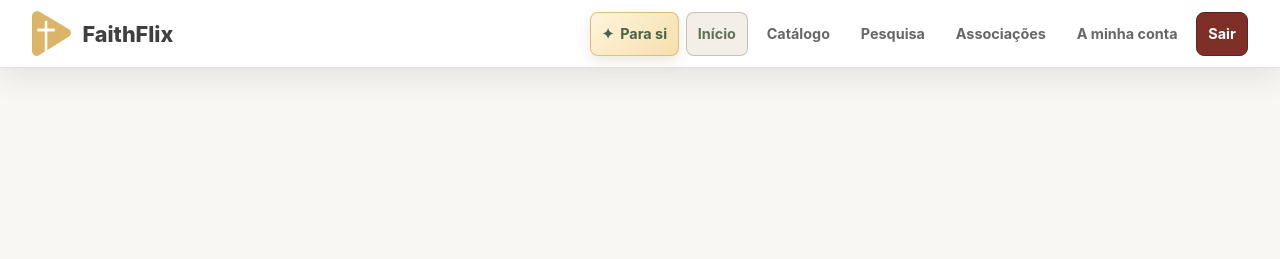
Test case: AppHeader › troca Planos por Para si para clientes autenticados sem duplicar o link
Expected: the number of links "✦ Para si" is 1, 590,12 -> 679,56
Click the heading "A minha conta" at (1127, 34), box 1077,25 -> 1178,42
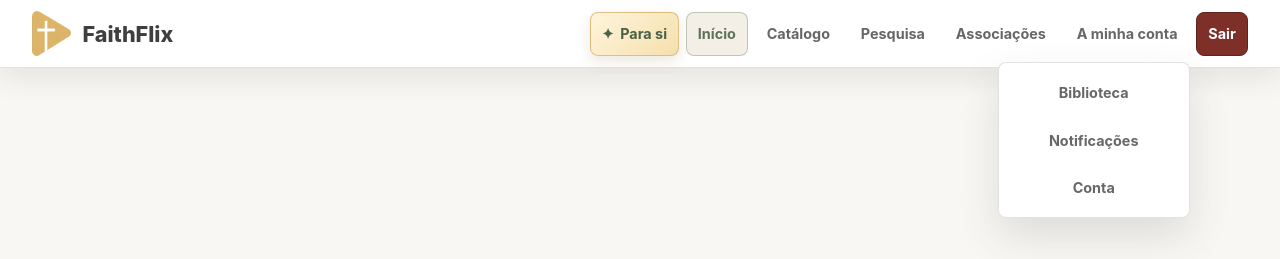
Expected: the number of links "✦ Para si" is 1, 590,12 -> 679,56
Result: the link "Biblioteca" is shown at 1059,84 -> 1129,101
